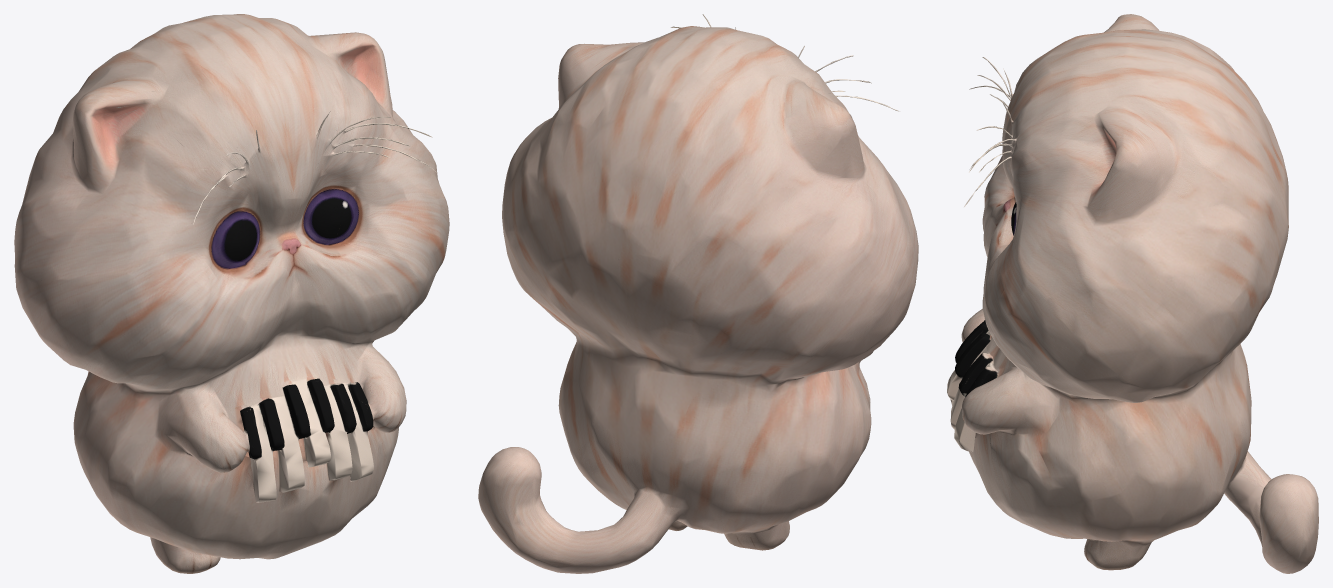
The picture shows the model from 3 angles, left to right: view 1: azimuth 30°, elevation 25°; view 2: azimuth 150°, elevation 25°; view 3: azimuth 270°, elevation 25°; orthographic projection. The views are drawn at different scales.
Visible parts, largest first — view 1: Mesh_0; view 2: Mesh_0; view 3: Mesh_0.
Boxes of the visible parts, box(x1,y1,x2,y2) form: Mesh_0: box(14, 14, 449, 573); Mesh_0: box(478, 14, 918, 573); Mesh_0: box(947, 14, 1318, 573).
Bounding box in the file's own units: 1.53 × 1.9 × 1.28.
Materials: 1 (1 with a texture image).
